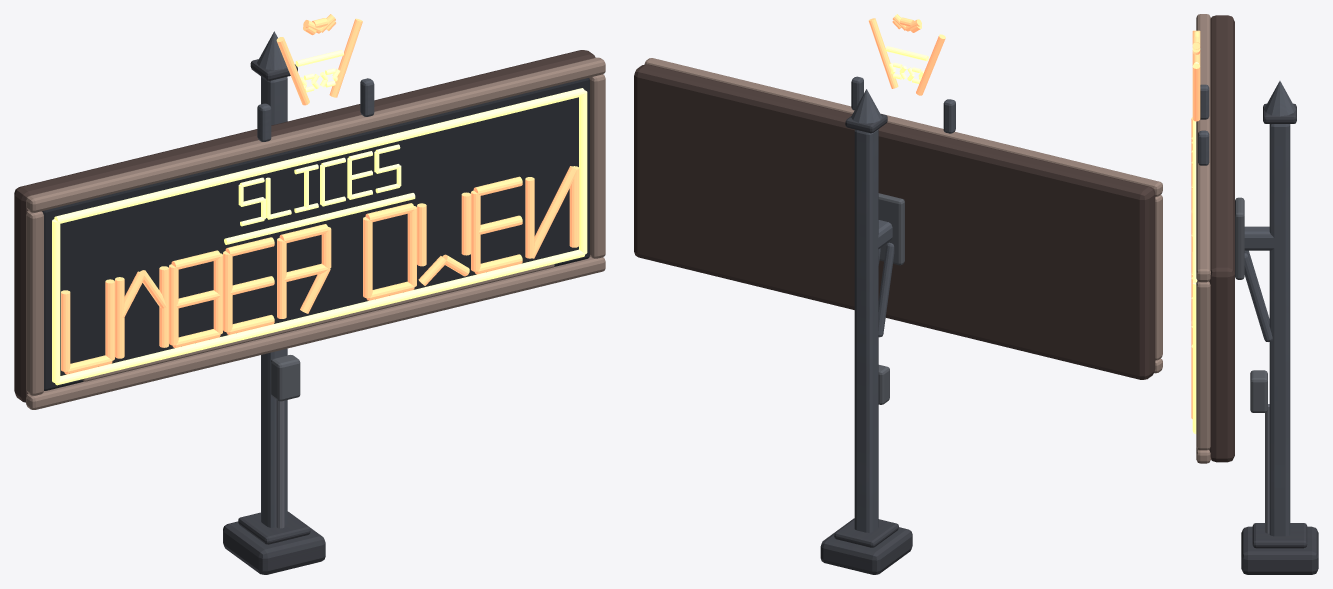
The model's file is sign_pizza.glb.
The picture shows the model from 3 angles, left to right: view 1: azimuth 30°, elevation 25°; view 2: azimuth 150°, elevation 25°; view 3: azimuth 270°, elevation 25°; orthographic projection. The views are drawn at different scales.
Visible parts, largest first — view 1: sign_pizza_face, sign_pizza_rail_top, sign_pizza_rail_bottom, sign_pizza_plate, sign_pizza_border_s2, sign_pizza_border_s0, sign_pizza_mast_0, sign_pizza_rail_l, sign_pizza_foot_0, sign_pizza_rail_r, sign_pizza_band, sign_pizza_border_s3 (+18 smaller); view 2: sign_pizza_plate, sign_pizza_mast_0, sign_pizza_rail_top, sign_pizza_foot_0, sign_pizza_stiffener_0, sign_pizza_rail_l, sign_pizza_footplate_0, sign_pizza_brace_0a; view 3: sign_pizza_plate, sign_pizza_mast_0, sign_pizza_rail_top, sign_pizza_foot_0, sign_pizza_rail_r, sign_pizza_footplate_0, sign_pizza_brace_0b, sign_pizza_stiffener_0, sign_pizza_border_s2, sign_pizza_junction, sign_pizza_border_s1, sign_pizza_arm_0 (+8 smaller).
Part boxes in pixels (left/top/right/bottom): sign_pizza_face: left=42, top=78, right=589, bottom=390; sign_pizza_rail_top: left=26, top=57, right=605, bottom=212; sign_pizza_rail_bottom: left=26, top=256, right=605, bottom=409; sign_pizza_plate: left=14, top=50, right=595, bottom=402; sign_pizza_border_s2: left=54, top=88, right=585, bottom=223; sign_pizza_border_s0: left=55, top=249, right=585, bottom=385; sign_pizza_mast_0: left=261, top=76, right=287, bottom=527; sign_pizza_rail_l: left=26, top=210, right=43, bottom=395; sign_pizza_foot_0: left=223, top=511, right=325, bottom=574; sign_pizza_rail_r: left=589, top=74, right=605, bottom=258; sign_pizza_band: left=82, top=264, right=554, bottom=381; sign_pizza_border_s3: left=52, top=219, right=60, bottom=382; sign_pizza_plate: left=634, top=64, right=1155, bottom=379; sign_pizza_mast_0: left=854, top=129, right=878, bottom=532; sign_pizza_rail_top: left=644, top=58, right=1162, bottom=196; sign_pizza_foot_0: left=820, top=518, right=912, bottom=574; sign_pizza_stiffener_0: left=878, top=193, right=904, bottom=265; sign_pizza_rail_l: left=1155, top=195, right=1162, bottom=360; sign_pizza_footplate_0: left=834, top=518, right=898, bottom=547; sign_pizza_brace_0a: left=878, top=242, right=894, bottom=337; sign_pizza_plate: left=1209, top=15, right=1234, bottom=462; sign_pizza_mast_0: left=1269, top=124, right=1290, bottom=536; sign_pizza_rail_top: left=1196, top=14, right=1210, bottom=282; sign_pizza_foot_0: left=1241, top=526, right=1318, bottom=574; sign_pizza_rail_r: left=1196, top=281, right=1210, bottom=450; sign_pizza_footplate_0: left=1252, top=523, right=1307, bottom=548; sign_pizza_brace_0b: left=1244, top=253, right=1272, bottom=341; sign_pizza_stiffener_0: left=1235, top=197, right=1244, bottom=279; sign_pizza_border_s2: left=1192, top=119, right=1197, bottom=282; sign_pizza_junction: left=1250, top=370, right=1267, bottom=412; sign_pizza_border_s1: left=1192, top=283, right=1196, bottom=432; sign_pizza_arm_0: left=1244, top=226, right=1274, bottom=250.
Bounding box in the file's own units: 3.8 × 3.61 × 0.7909.
90 materials, 3 textured.
